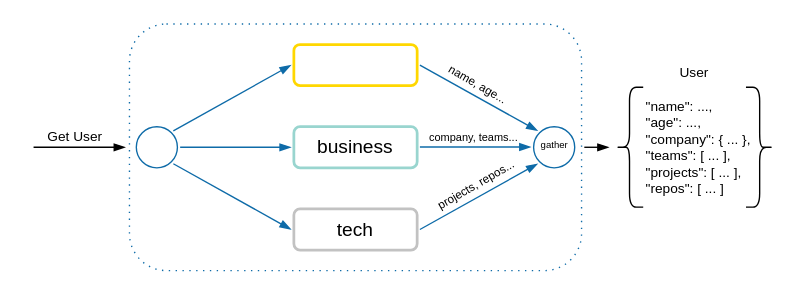
Some shapes in this 797 by 295 pixel diagram are drawn without their labels. Here are the shapes that lost their labels. From the top down, the box of each, then its label:
(292, 42, 418, 86): employees
(135, 125, 177, 168): scatter
